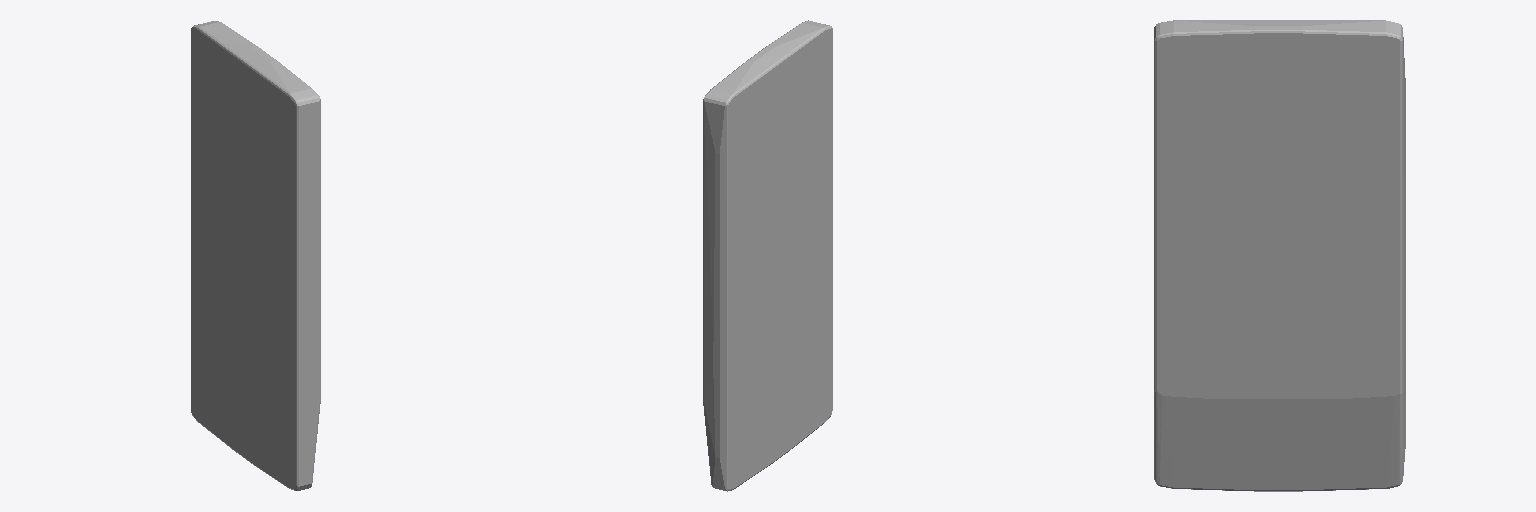
The robot description file, URDF, robot "root":
<robot name="root">
  <link name="link_coacd_convex_piece_0">
    <inertial>
      <origin xyz="0 0 0" rpy="0 0 0"/>
      <inertia ixx="3.99E-02" ixy="1.25E-06" ixz="-1.72E-04" iyy="3.20E-02" iyz="2.98E-06" izz="8.23E-03"/>
    </inertial>
    <visual>
      <origin xyz="0 0 0" rpy="0 0 0"/>
      <geometry>
        <mesh filename="coacd_convex_piece_0.obj" scale="1.0000E+00 1.0000E+00 1.0000E+00"/>
      </geometry>
      <material name="">
        <color rgba="7.50E-01 7.50E-01 7.50E-01 1"/>
      </material>
    </visual>
    <collision>
      <origin xyz="0 0 0" rpy="0 0 0"/>
      <geometry>
        <mesh filename="coacd_convex_piece_0.obj" scale="1.0000E+00 1.0000E+00 1.0000E+00"/>
      </geometry>
    </collision>
  </link>
</robot>

--- What the picture shows (computed from the rendered views, not written in the file) ---
3 views of the same robot in one strip: view 1: azimuth 30°, elevation 25°; view 2: azimuth 150°, elevation 25°; view 3: azimuth 270°, elevation 25° (orthographic).
Robot: root — 1 links, 0 joints (none); root link link_coacd_convex_piece_0; default pose: all joints at 0.
Visible links, largest first — view 1: link_coacd_convex_piece_0; view 2: link_coacd_convex_piece_0; view 3: link_coacd_convex_piece_0.
Link boxes in pixels (bbox=[...]): link_coacd_convex_piece_0: bbox=[191, 21, 320, 490]; link_coacd_convex_piece_0: bbox=[703, 20, 832, 491]; link_coacd_convex_piece_0: bbox=[1154, 20, 1405, 491].
Bounding box of the posed robot: 0.1173 × 0.8794 × 1.8 m (x, y, z).
1 mesh visuals loaded from 1 distinct referenced files (1 OBJ).
